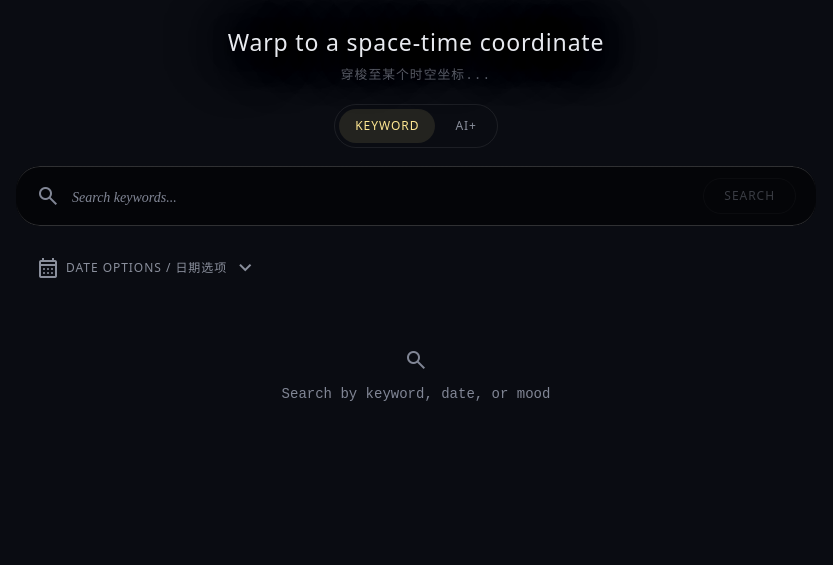
Test case: Recall › shows Host Agent stream status before any delta arrives
Click the tab with test id "tab-agent": (466, 126) [439, 109, 493, 143]
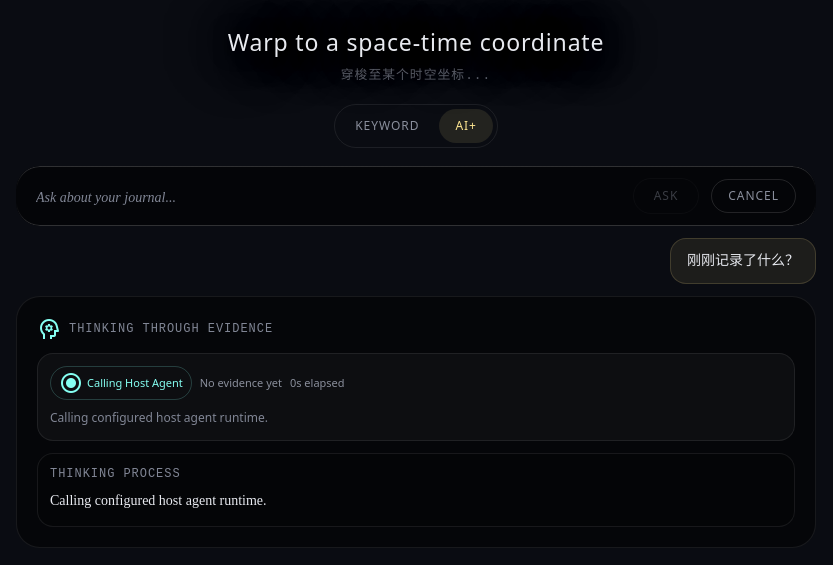
Expected: the text with test id "host-agent-stream-delta" does not show "Waiting for Host Agent reasoning", [50, 493, 267, 508]
Expected: the element with test id "host-agent-stream-panel" shows "Calling Host Agent", [87, 375, 183, 390]
Expected: the element with test id "host-agent-stream-panel" shows "Calling configured host agent runtime.", [50, 409, 268, 426]
